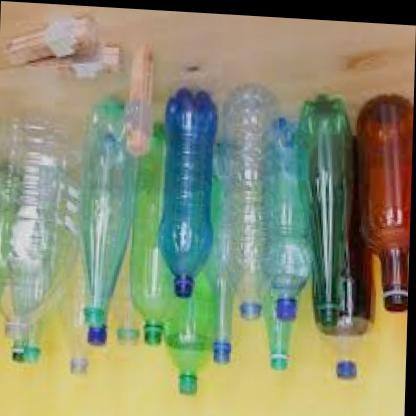Plastic: (0, 109, 311, 408), (0, 100, 83, 364), (354, 76, 414, 326), (220, 86, 280, 316), (318, 178, 378, 376), (158, 90, 216, 294), (306, 92, 348, 321)
